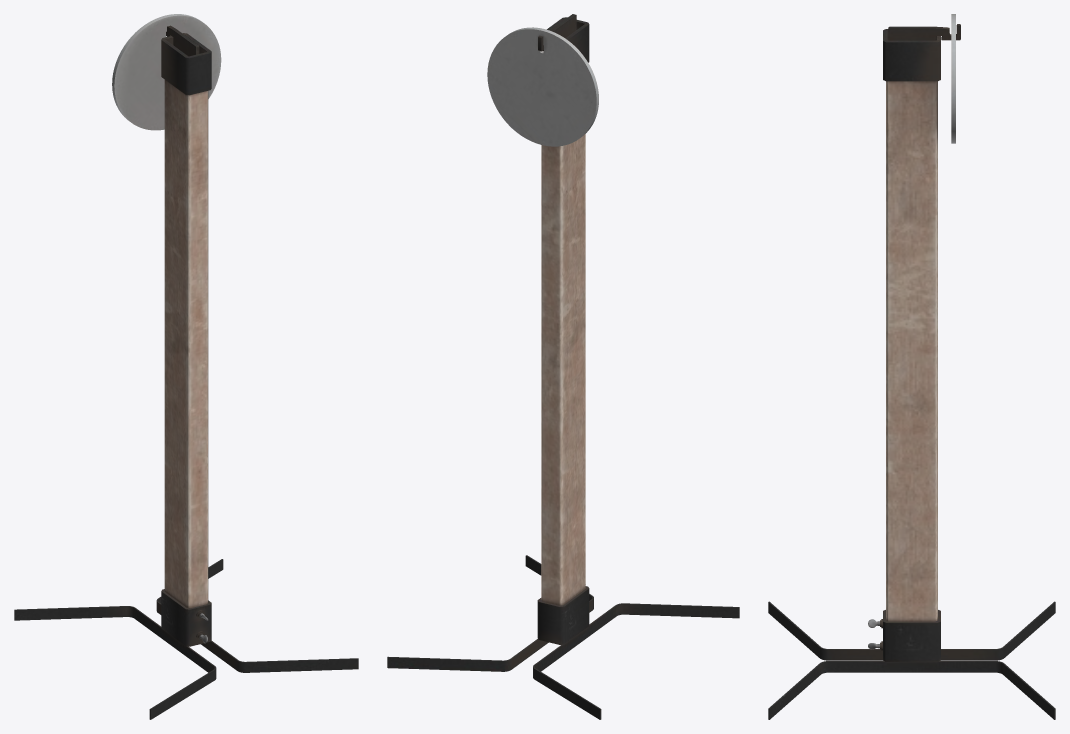
File: target_steel10_inch.glb
The picture shows the model from 3 angles, left to right: view 1: azimuth 30°, elevation 25°; view 2: azimuth 150°, elevation 25°; view 3: azimuth 270°, elevation 25°; orthographic projection. The views are drawn at different scales.
Visible parts, largest first — view 1: Steel10Inch_TargetSet01_0; view 2: Steel10Inch_TargetSet01_0; view 3: Steel10Inch_TargetSet01_0.
Boxes of the visible parts, <box> form: Steel10Inch_TargetSet01_0: <box>14,14,358,719</box>; Steel10Inch_TargetSet01_0: <box>387,14,739,719</box>; Steel10Inch_TargetSet01_0: <box>768,14,1055,719</box>.
Bounding box in the file's own units: 0.4932 × 1.39 × 0.5584.
1 material, 1 textured.
